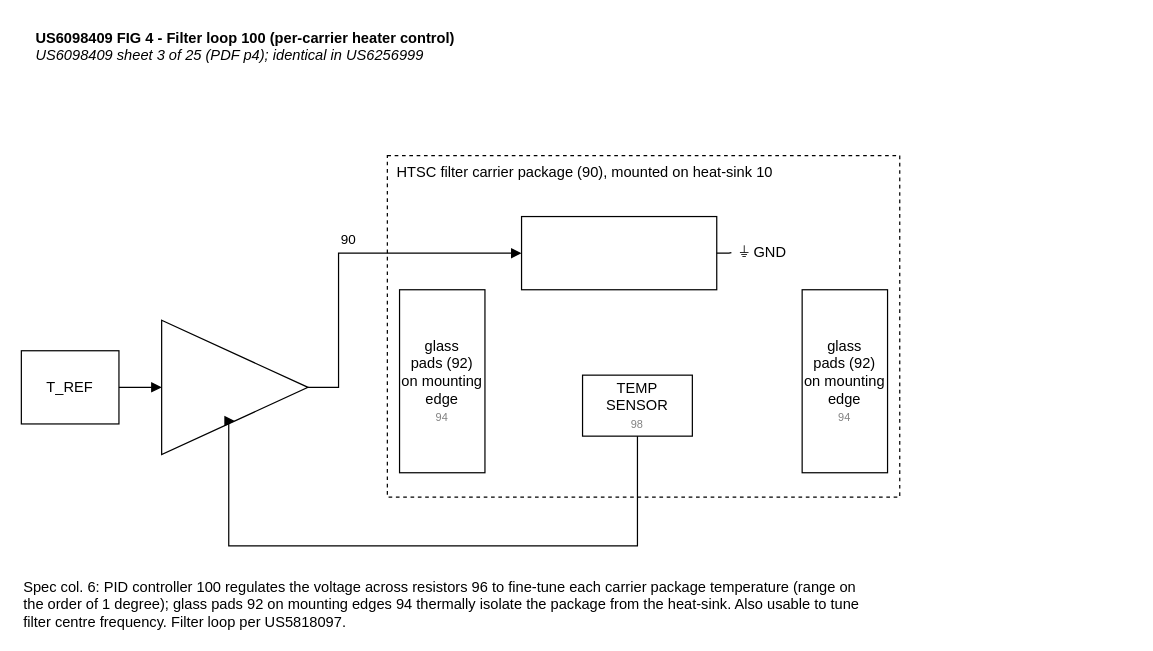
This 1153x651 diagram has some shape labels left out. The shapes that lost their labels are listed below. From the top down, each one's centre as x and y in pixels, then its label:
At point (618, 252): "THICK FILM RESISTORS (96) two in parallel".
At point (234, 386): "FILTER LOOP (PID) 100".
